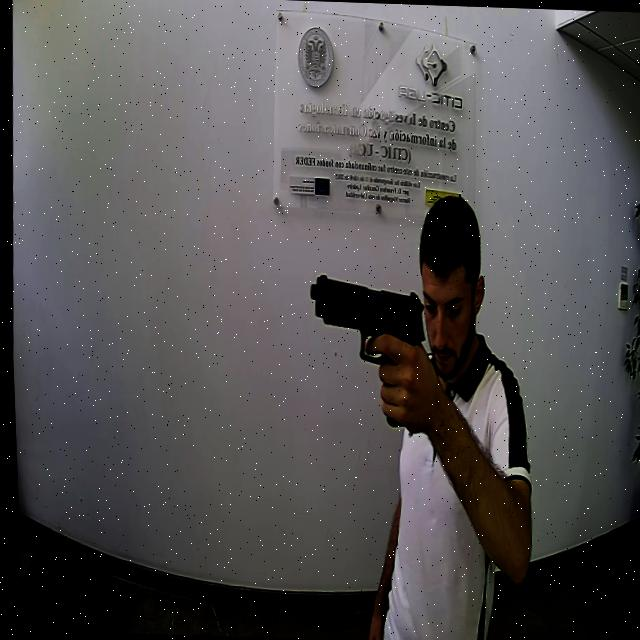pistol: (302, 269, 422, 365)
